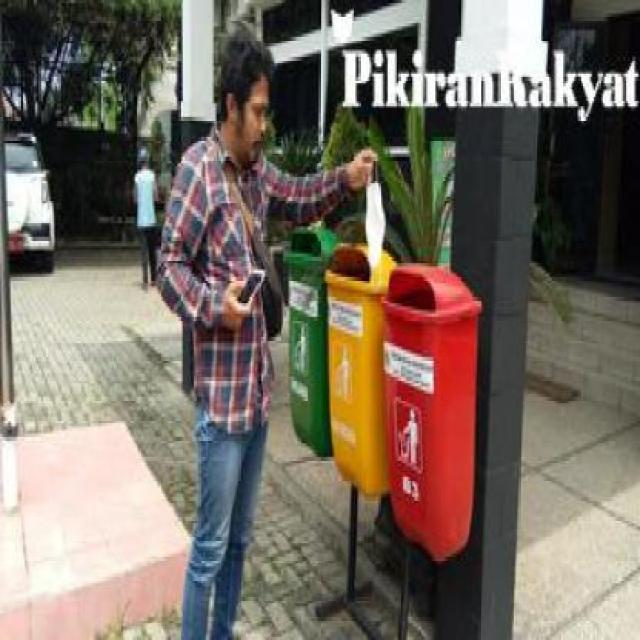garbage container: (377, 257, 491, 571), (324, 227, 401, 518), (280, 220, 337, 471)
